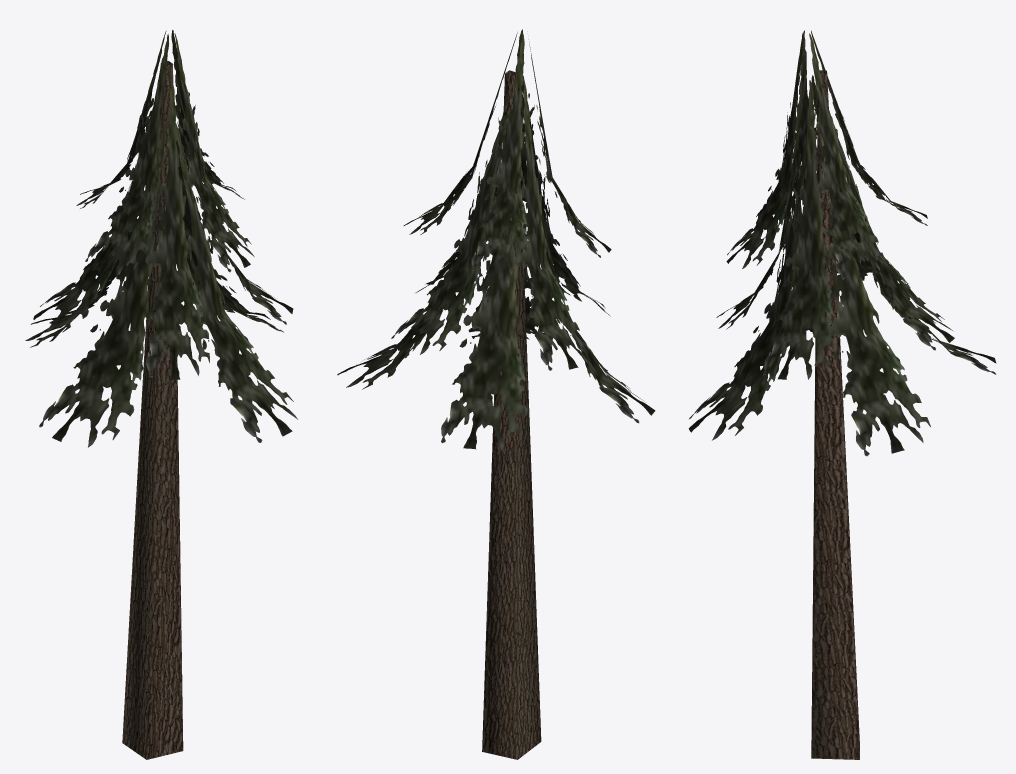
File: LoveDeath_Pine_Art.glb
3 renders of one model, left to right at view 1: azimuth 30°, elevation 25°; view 2: azimuth 150°, elevation 25°; view 3: azimuth 270°, elevation 25°, orthographic. The views are drawn at different scales.
Visible parts, largest first — view 1: LoveDeath_Pine_Art; view 2: LoveDeath_Pine_Art; view 3: LoveDeath_Pine_Art.
Part boxes in pixels (x1,y1,x2,y2): LoveDeath_Pine_Art: [25, 30, 297, 759]; LoveDeath_Pine_Art: [337, 29, 655, 759]; LoveDeath_Pine_Art: [688, 30, 996, 759].
Bounding box in the file's own units: 3.52 × 8.98 × 3.51.
Materials: 2 (2 with a texture image).
